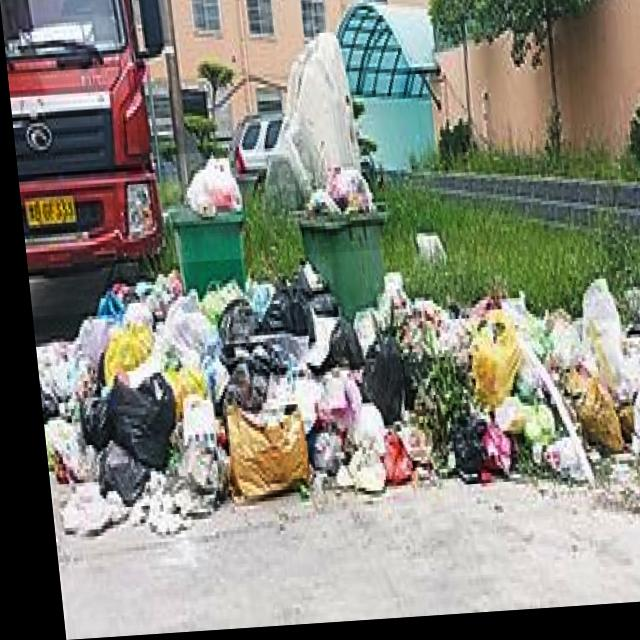garbage: (22, 239, 640, 522)
overflow: (289, 166, 390, 326), (159, 154, 241, 292)
